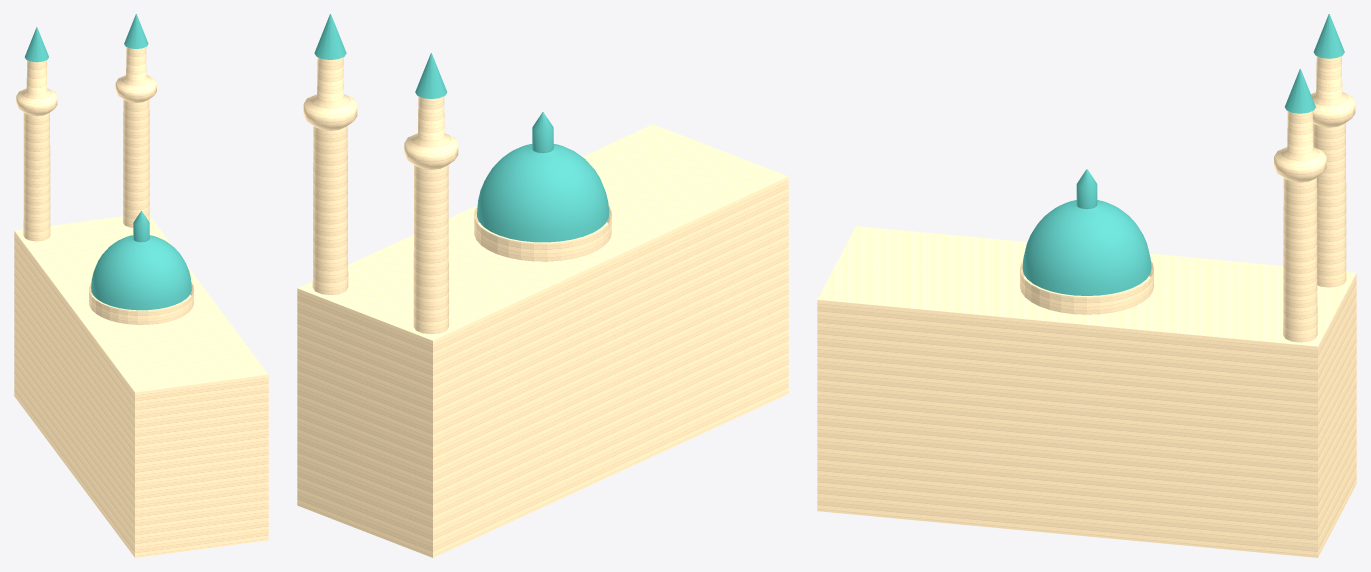
The model's file is landmark-bibi-heybat-mosque.glb.
The picture shows the model from 3 angles, left to right: view 1: azimuth 30°, elevation 25°; view 2: azimuth 150°, elevation 25°; view 3: azimuth 270°, elevation 25°; orthographic projection. The views are drawn at different scales.
Visible parts, largest first — view 1: bibi-heybat-mosque; view 2: bibi-heybat-mosque; view 3: bibi-heybat-mosque.
Boxes of the visible parts, bbox=[...] form: bibi-heybat-mosque: bbox=[14, 14, 268, 557]; bibi-heybat-mosque: bbox=[297, 14, 788, 557]; bibi-heybat-mosque: bbox=[817, 14, 1356, 557].
Size of the model in its own units: 27.23 by 50.23 by 51.42.
2 materials, 1 textured.
